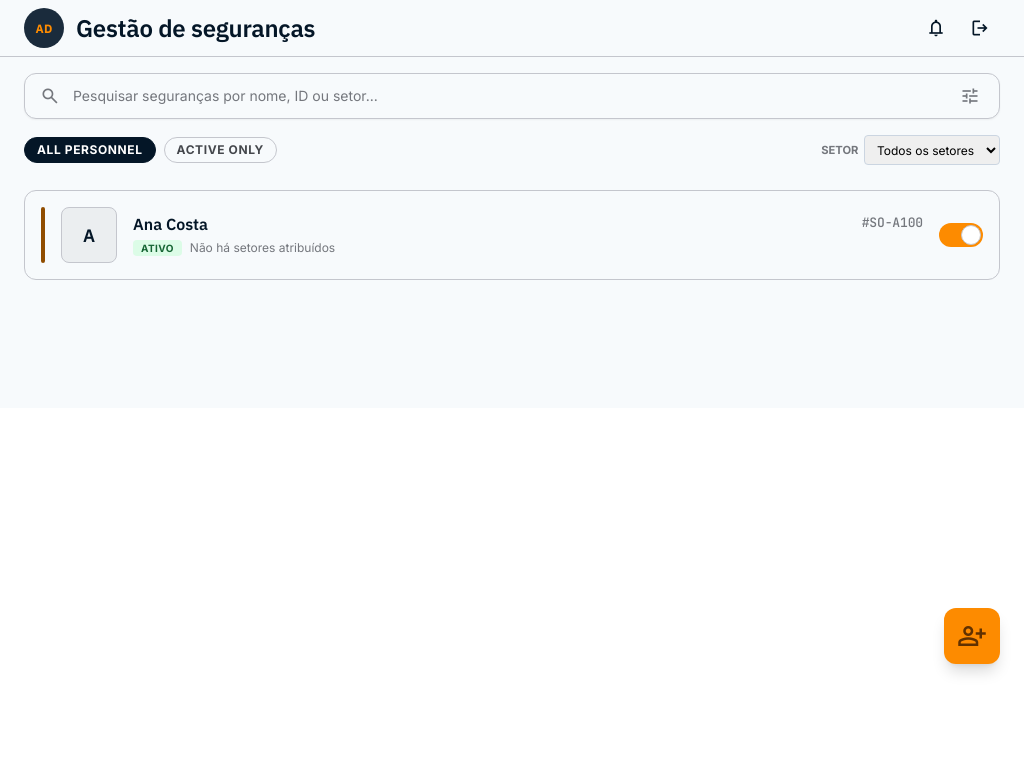
it: SecurityGuardsPage › submits create, assigns sectors, and refreshes list
Expected: the button "Ana Costa" is shown, top-left (133, 214), bottom-right (208, 236)
Click the button named "adicionar segurança" at point(972, 636), box top-left (944, 608), bottom-right (1000, 664)
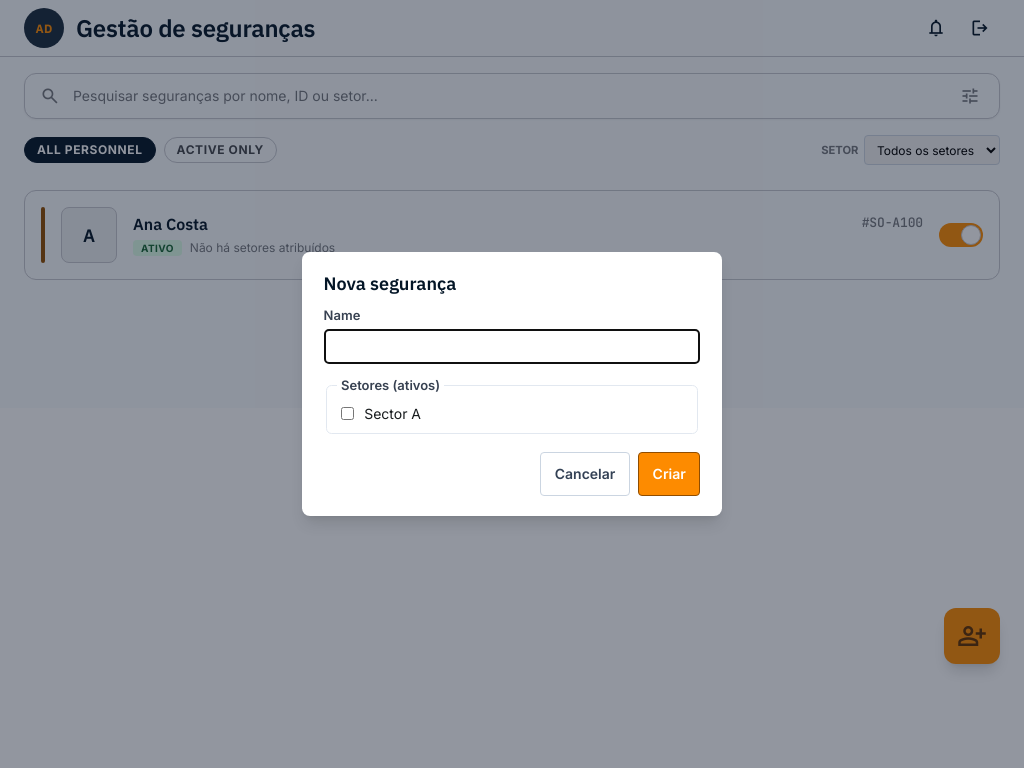
Expected: the checkbox labelled "Sector A" is shown
Click the checkbox labelled "Sector A" at point(348, 413), box top-left (341, 407), bottom-right (354, 420)
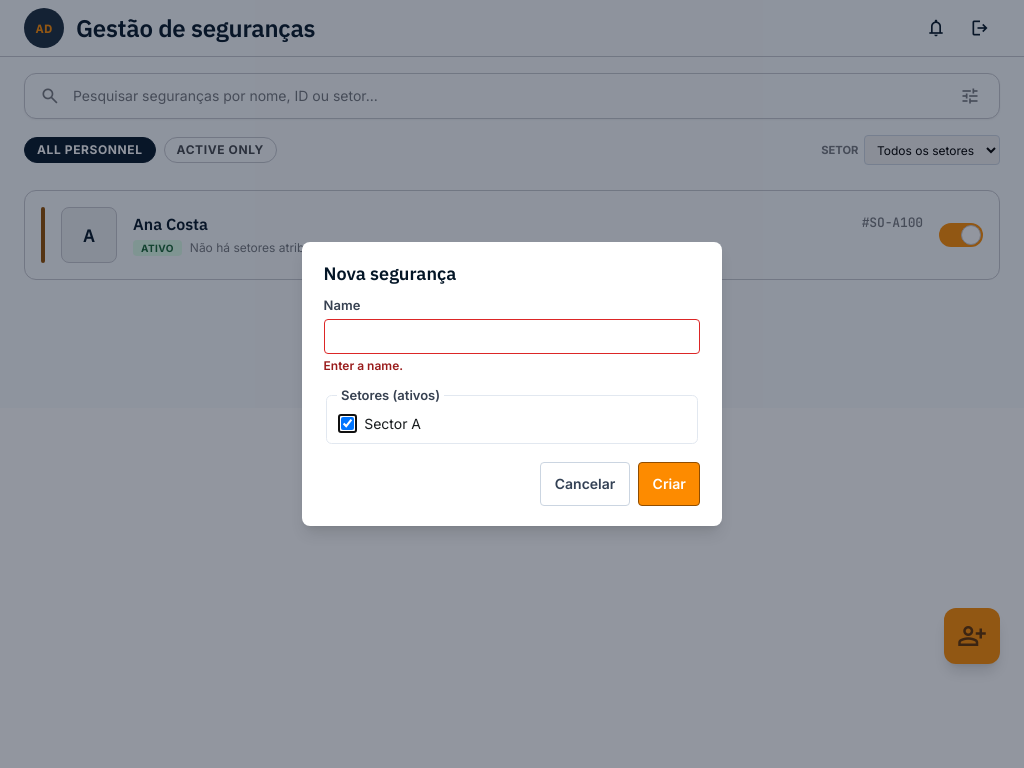
Type "Maria Souza" into the field labelled "Name" at point(512, 336), box top-left (324, 319), bottom-right (700, 354)
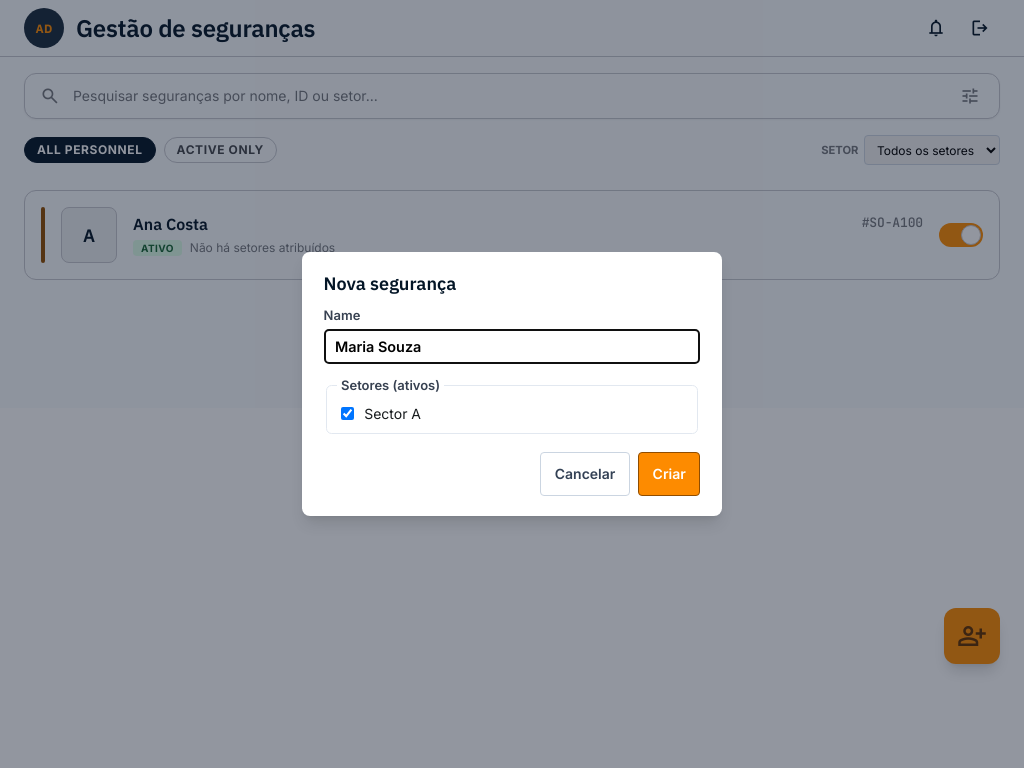
Click the button "Criar" at point(669, 474), box top-left (638, 452), bottom-right (700, 496)
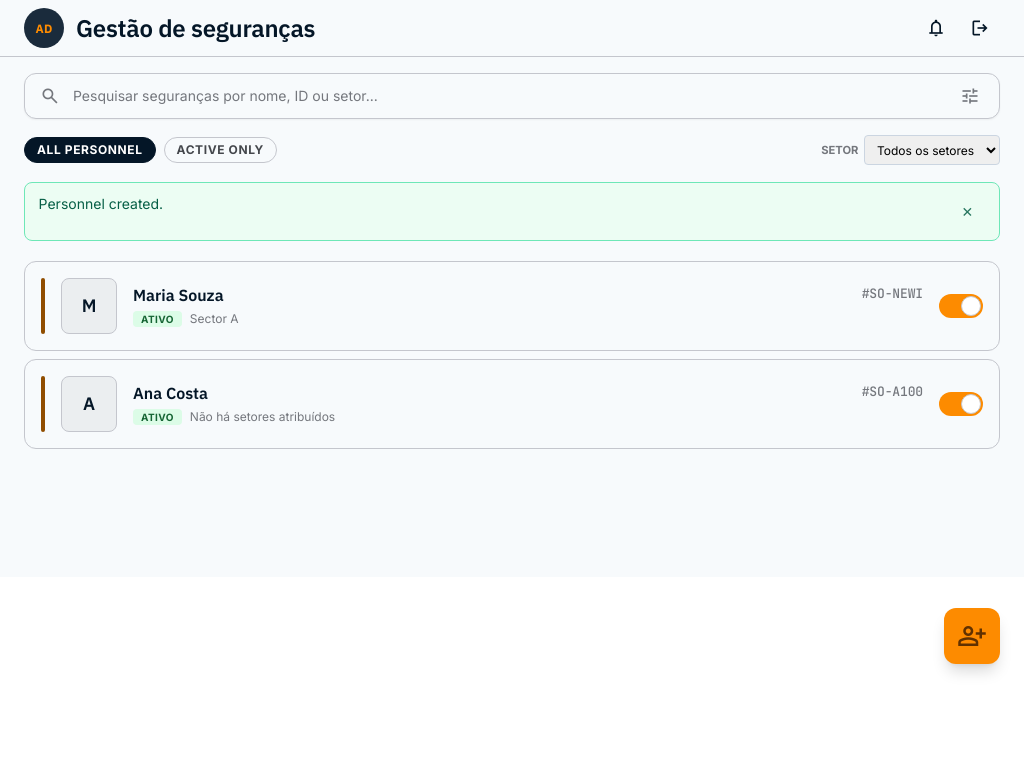
Expected: the button "Maria Souza" is shown, top-left (133, 285), bottom-right (224, 307)
